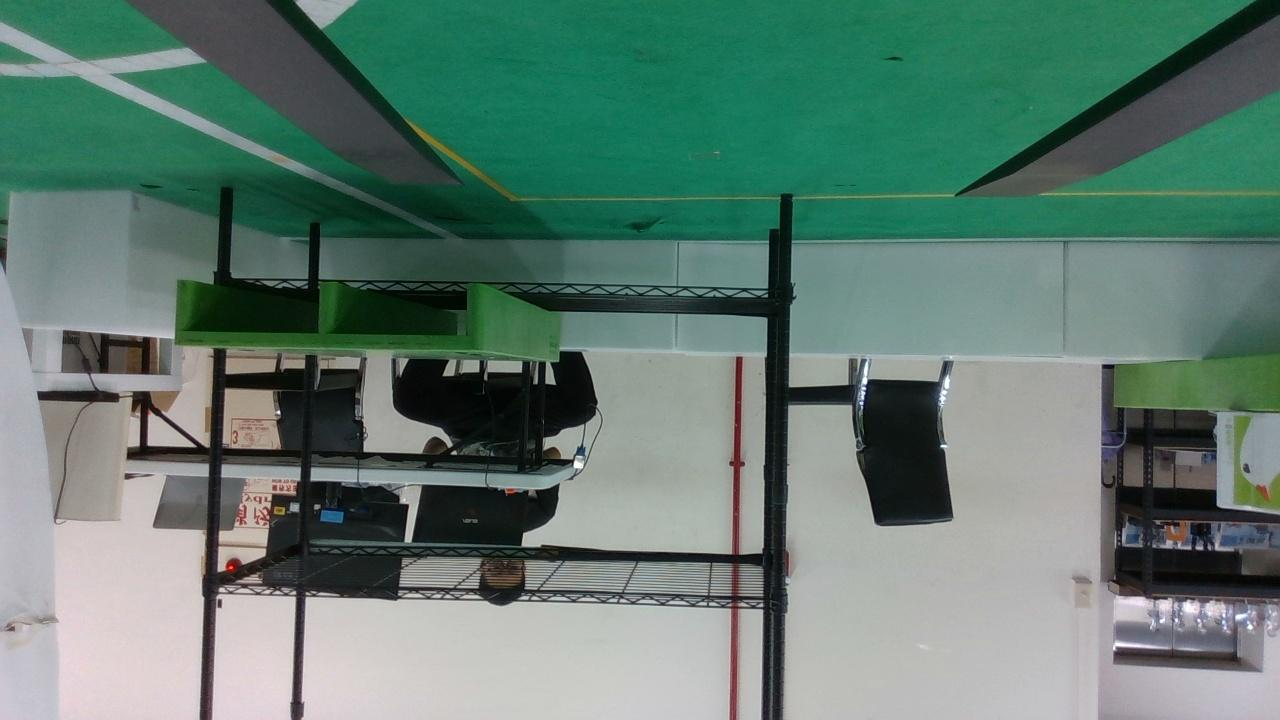Pallet: (173, 276, 484, 351)
